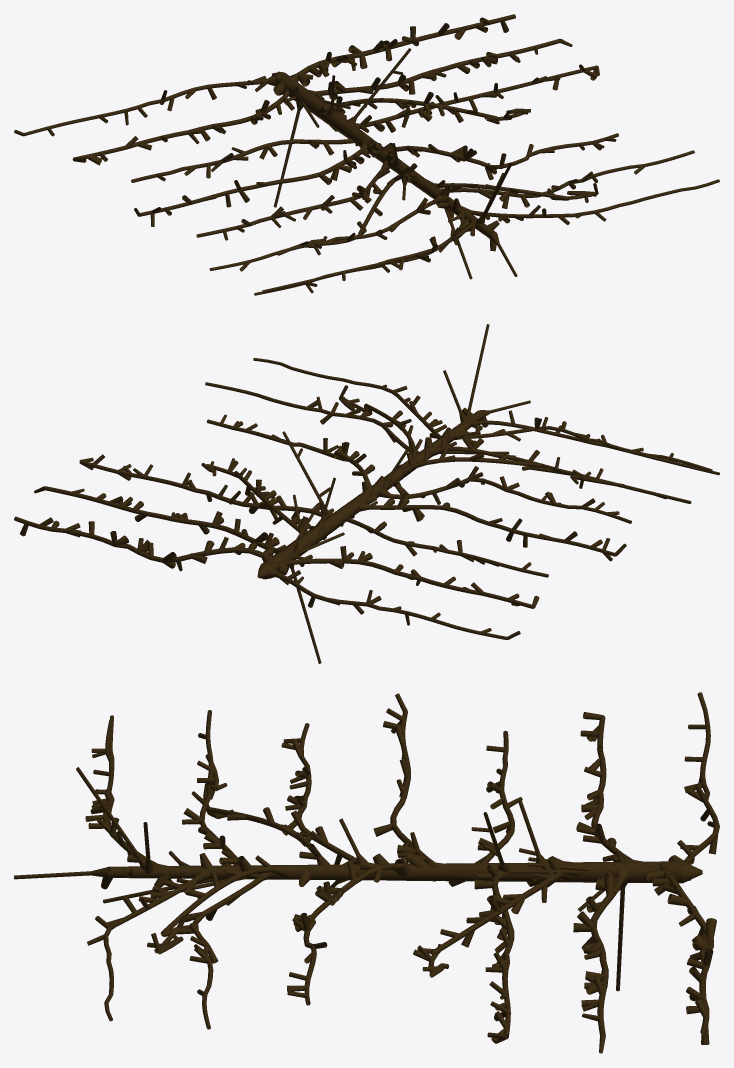
Rendered from tree.obj.
3 views of the same model, one above another, from view 1: azimuth 30°, elevation 25°; view 2: azimuth 150°, elevation 25°; view 3: azimuth 270°, elevation 25° (orthographic). The views are drawn at different scales.
Size of the model in its own units: 40.83 by 13.7 by 35.73.
